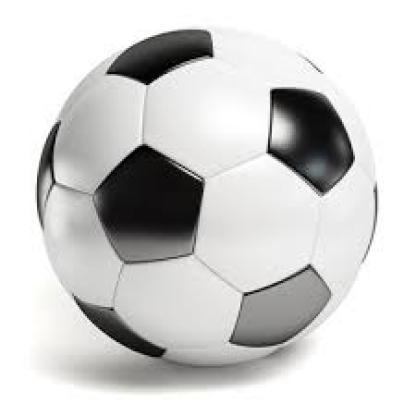ball: (36, 28, 379, 366)
